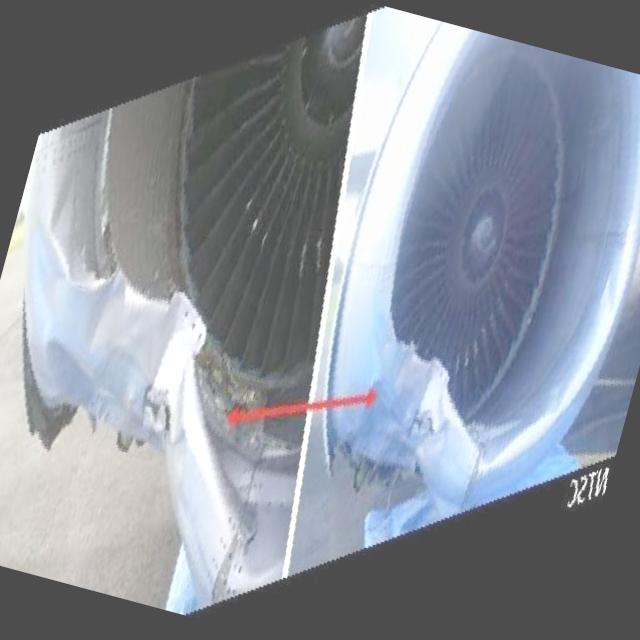dent: (28, 166, 98, 290), (136, 299, 202, 397), (78, 270, 127, 350)
